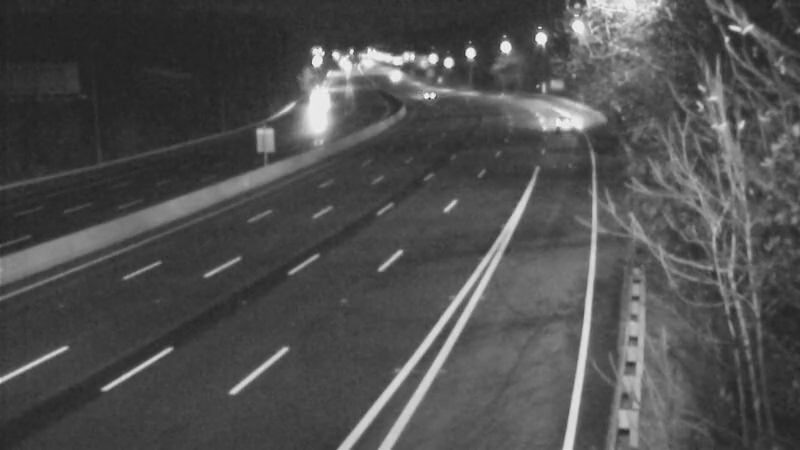vehicle: (367, 50, 417, 100), (401, 67, 451, 117), (528, 93, 578, 143), (287, 80, 337, 130)
